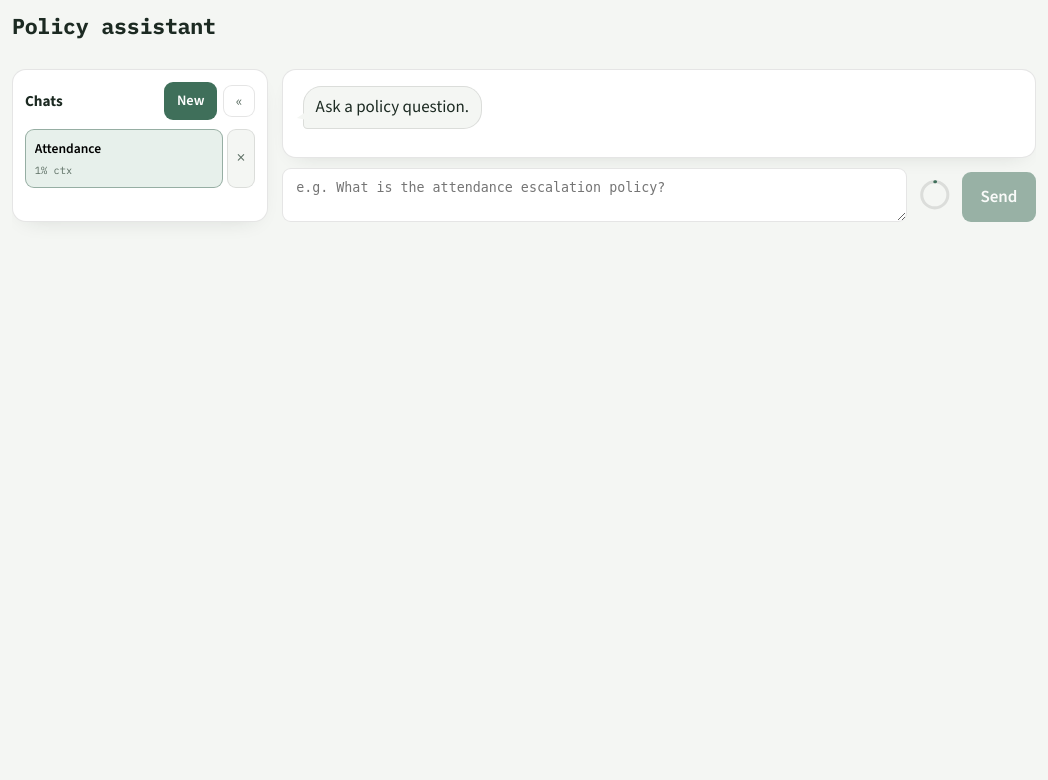
it: PolicyChatPage › loads conversations, shows context percent, and sends a message
This screenshot has width=1048, height=780.
Expected: the text "Ask a policy question." is shown, [316,93,469,121]
Expected: the message named "Context window 120 of 20,000 tokens, 1 percent" is shown, [918,178,951,212]
Type "What is attendance policy?" into the text box named "Message" at (594, 195), box [282,168,907,222]
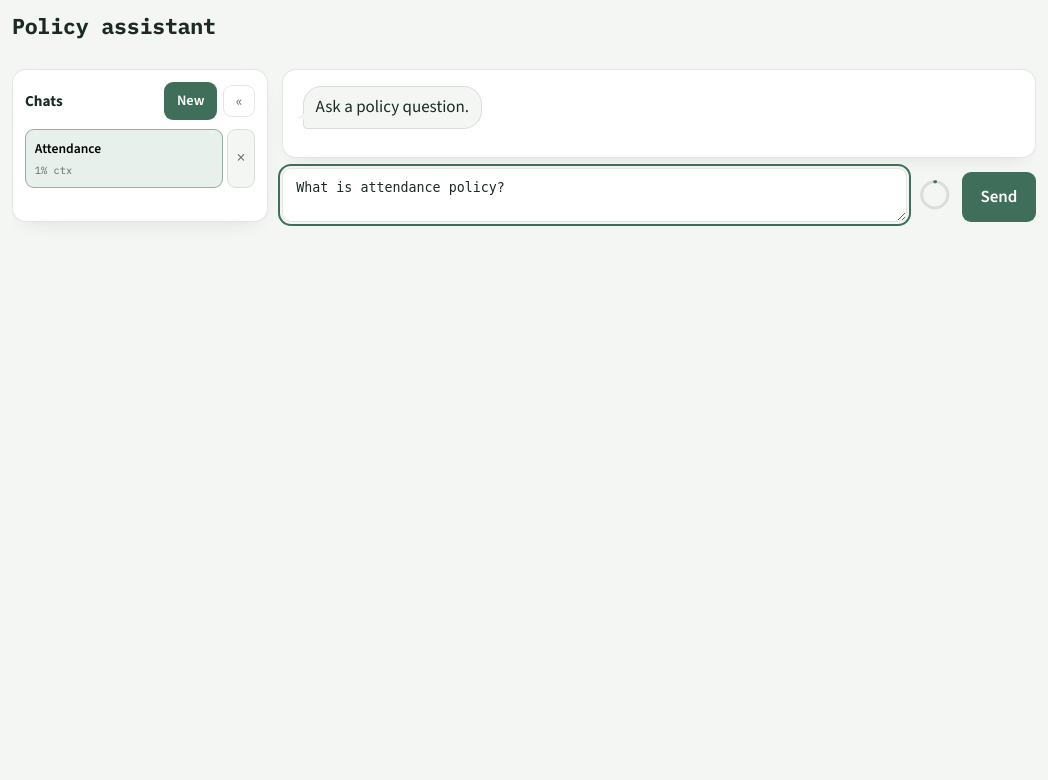
Click the button "Send" at (999, 197), box [962,172,1036,222]
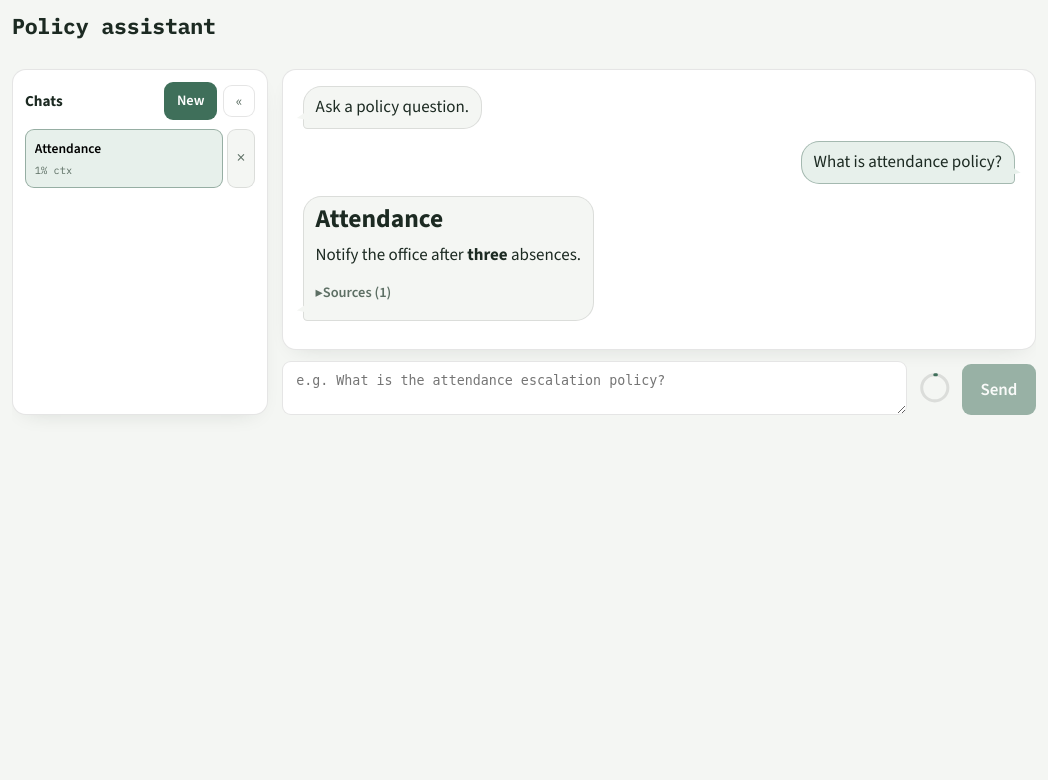
Now the heading "Attendance" is shown, box [316,201,443,235]
Now the text "three" is shown, box [467,243,508,266]
Now the text "Notify the office after three absences." is shown, box [316,241,581,269]
Click the heading "Sources (1)" at (357, 293), box [323,283,391,302]
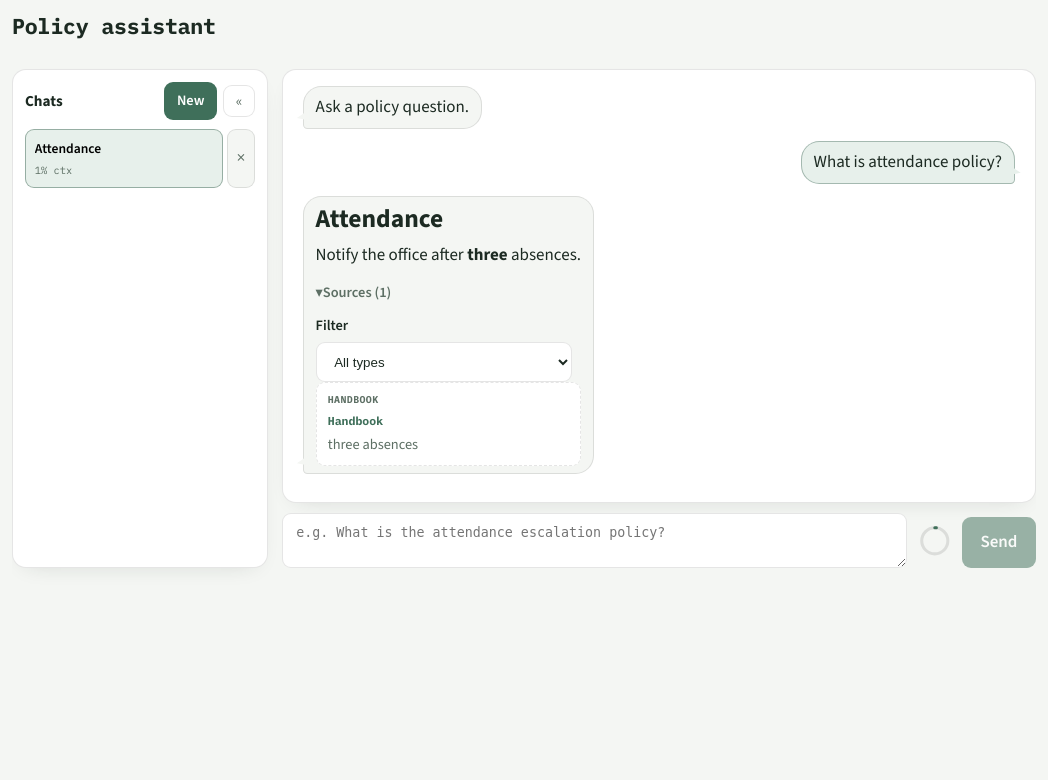
Now the message named "Context window 400 of 20,000 tokens, 2 percent" is shown, box [918,524,951,557]
Now the dropdown labelled "Filter" shows "All types", box [316,342,572,382]
Now the text "three absences" is shown, box [328,435,418,454]
